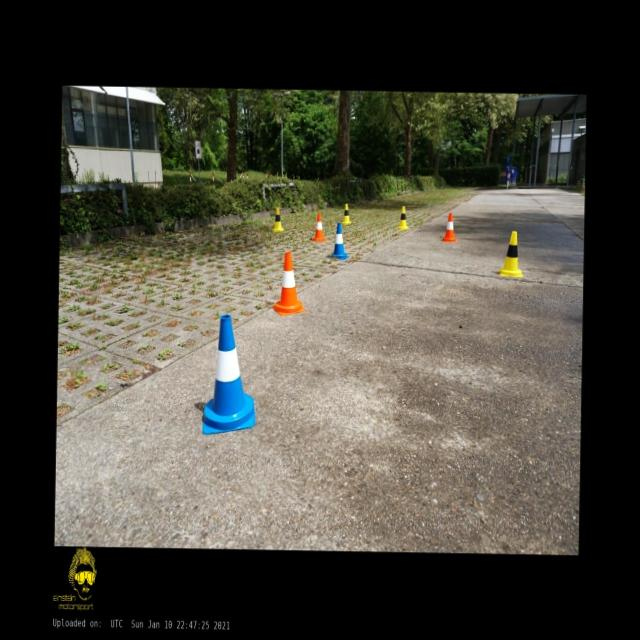blue_cone: (202, 314, 256, 434), (330, 222, 350, 260)
orange_cone: (271, 252, 306, 315), (442, 212, 456, 240), (312, 213, 325, 241)
yellow_cone: (498, 231, 523, 276), (272, 206, 284, 231), (397, 206, 409, 228), (341, 203, 351, 224)
